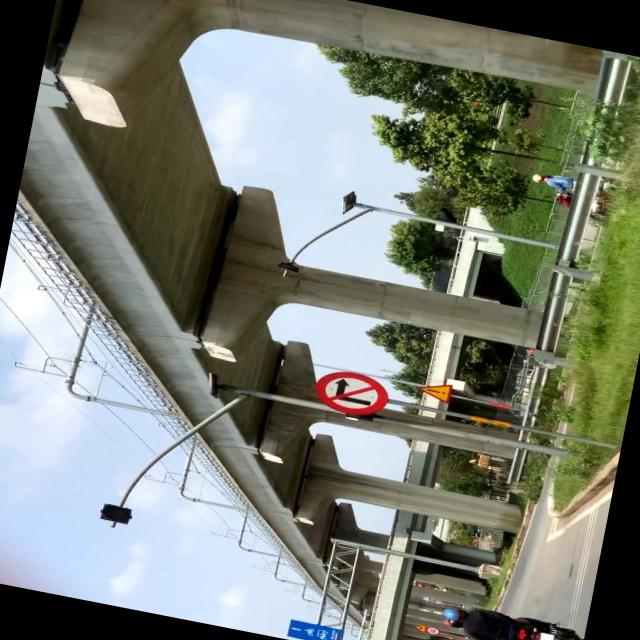P-123b: (310, 364, 391, 420)
W-233: (412, 380, 452, 404)
